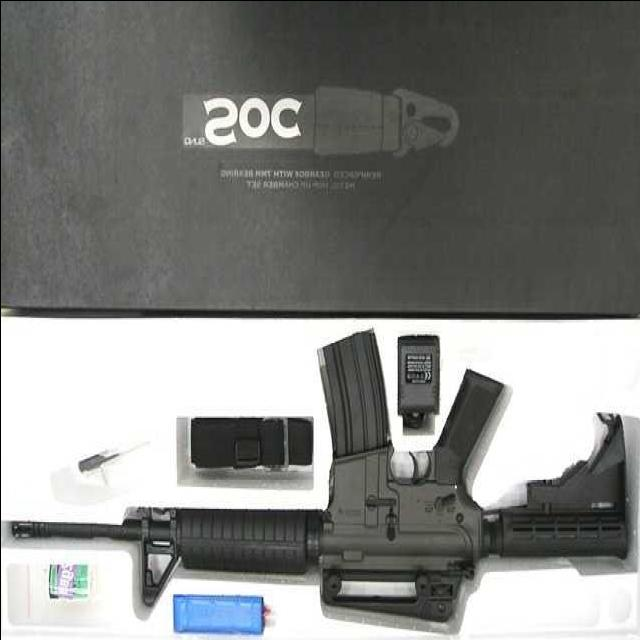heavyweapon: (11, 350, 632, 628)
